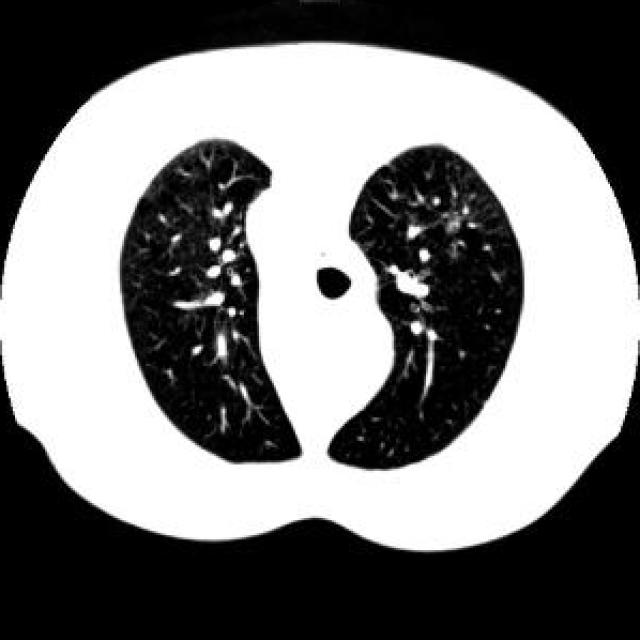Tumor: (460, 352, 465, 359)
